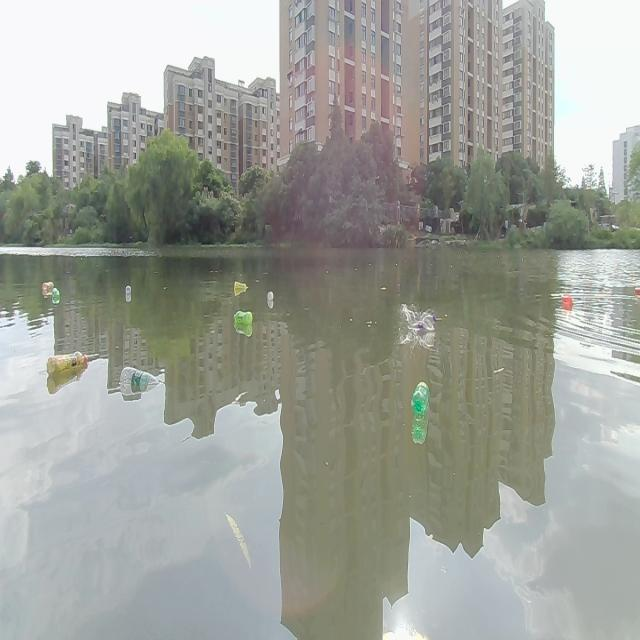bottle: (118, 361, 164, 400), (46, 351, 91, 380), (400, 304, 432, 336), (410, 382, 428, 420), (233, 308, 253, 327), (232, 276, 248, 296), (561, 290, 573, 308), (43, 279, 53, 293), (50, 289, 60, 302), (124, 284, 130, 300), (266, 291, 273, 304)
